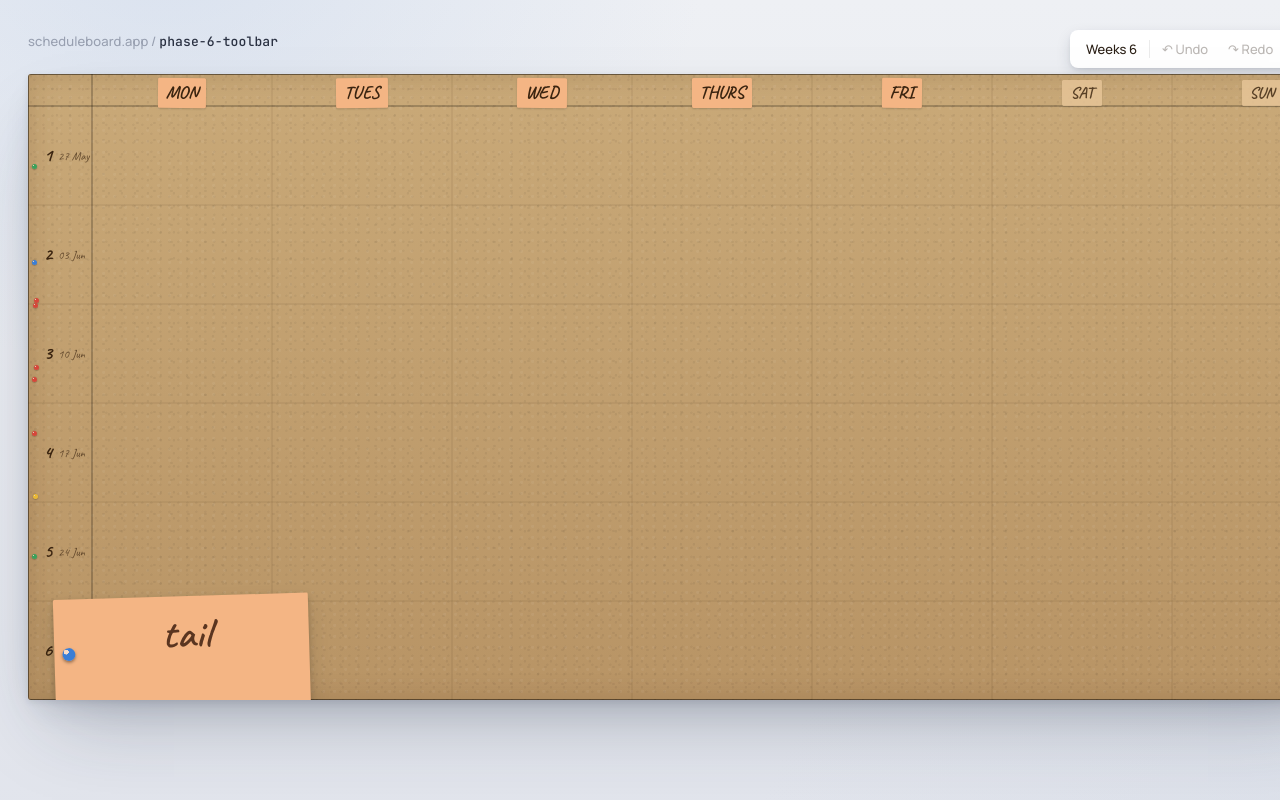
Test: Phase 6 — Toolbar › Resize dialog: cancel reverts; board unchanged
The width and height of the screenshot is (1280, 800).
Click the button with test id "toolbar-weeks-display". click: [1112, 49]
box: top-left (1076, 34), bottom-right (1147, 64)
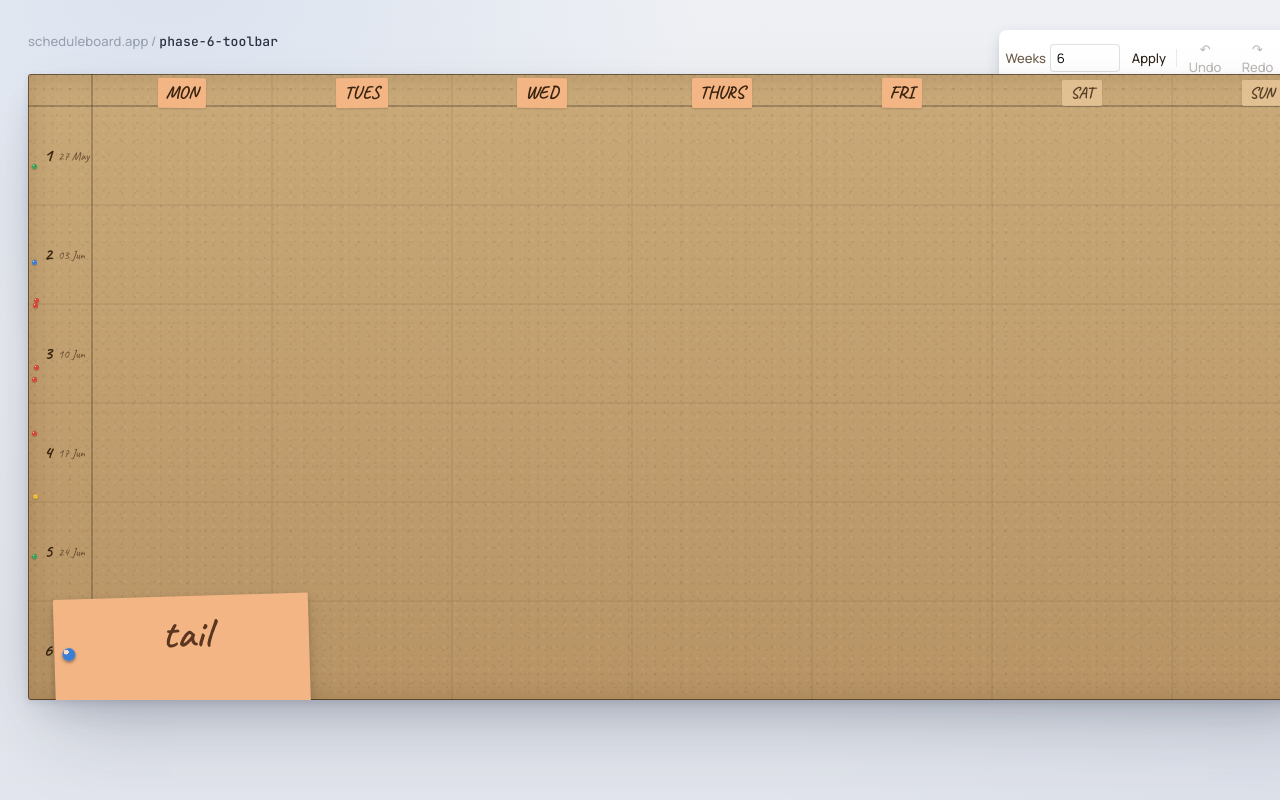
Replace the text in the number field with test id "toolbar-weeks-input" with "4". click: [1085, 58]
box: top-left (1050, 44), bottom-right (1120, 72)
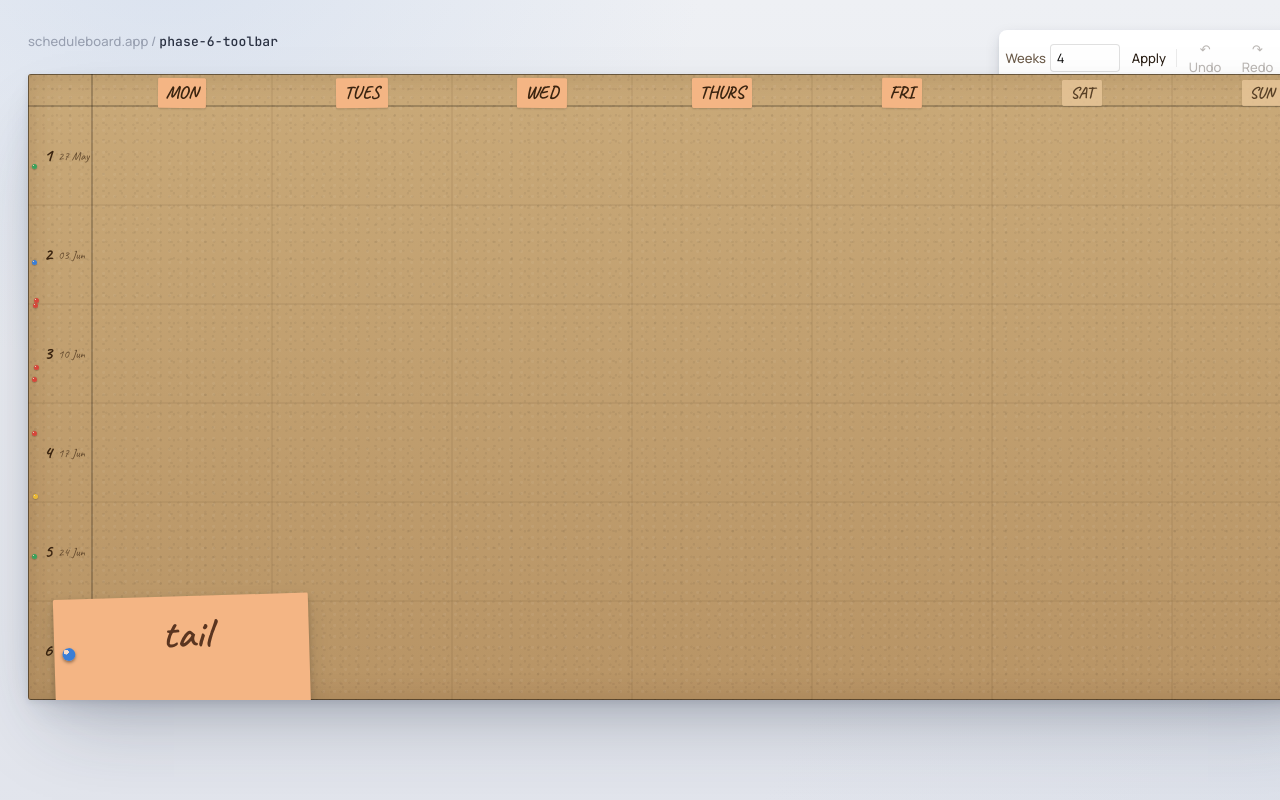
Click the button with test id "toolbar-weeks-apply". click: [1149, 58]
box: top-left (1124, 45), bottom-right (1174, 71)
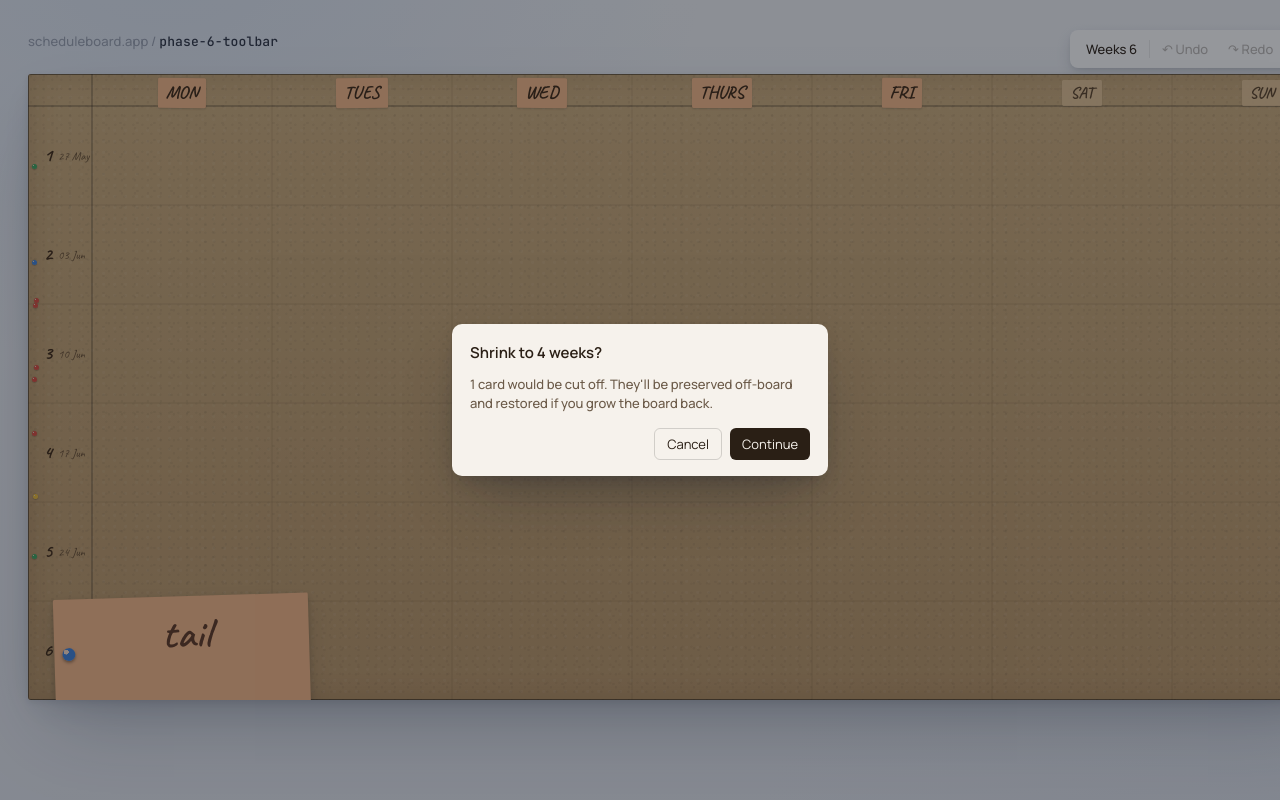
Click the button with test id "resize-dialog-cancel". click: [688, 444]
box: top-left (654, 428), bottom-right (722, 460)
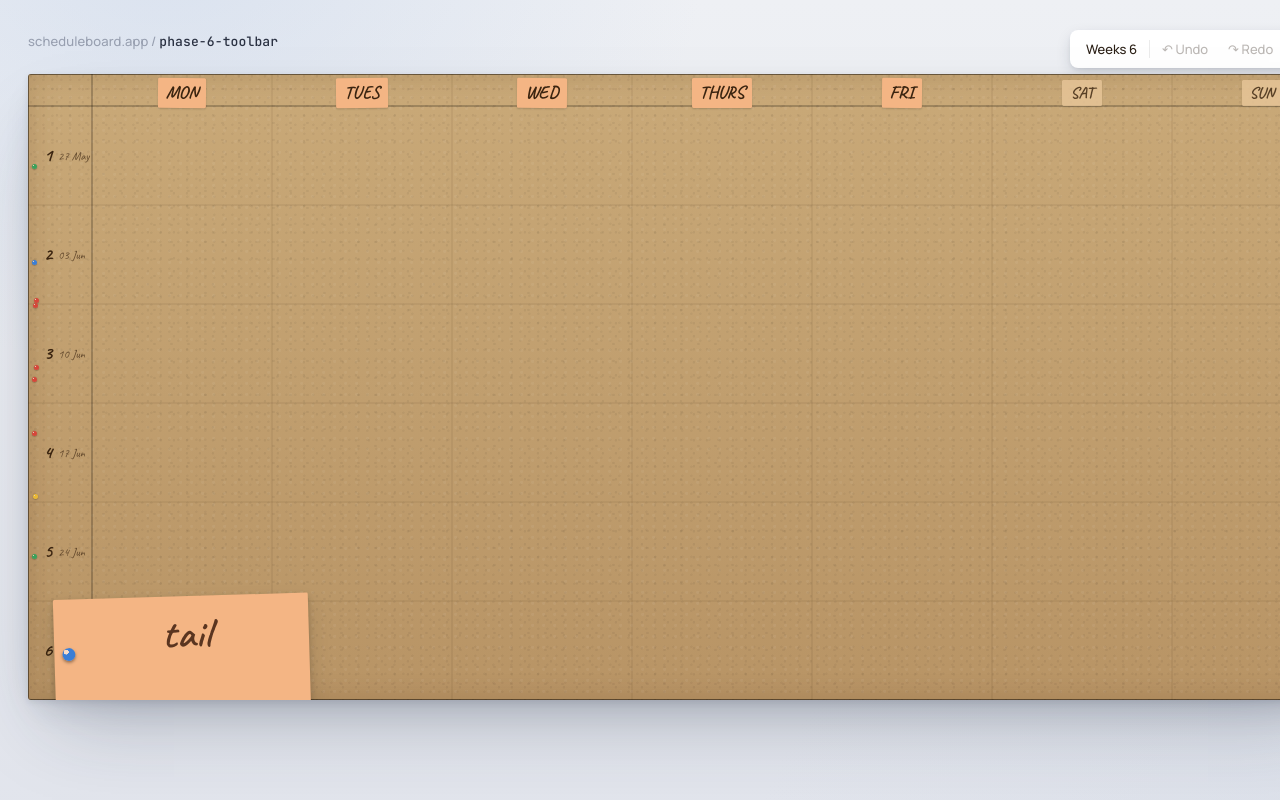
Expected: the button with test id "toolbar-weeks-display" reads "Weeks 6", top-left (1076, 34), bottom-right (1147, 64)
Expected: the dialog with test id "resize-dialog" is gone
